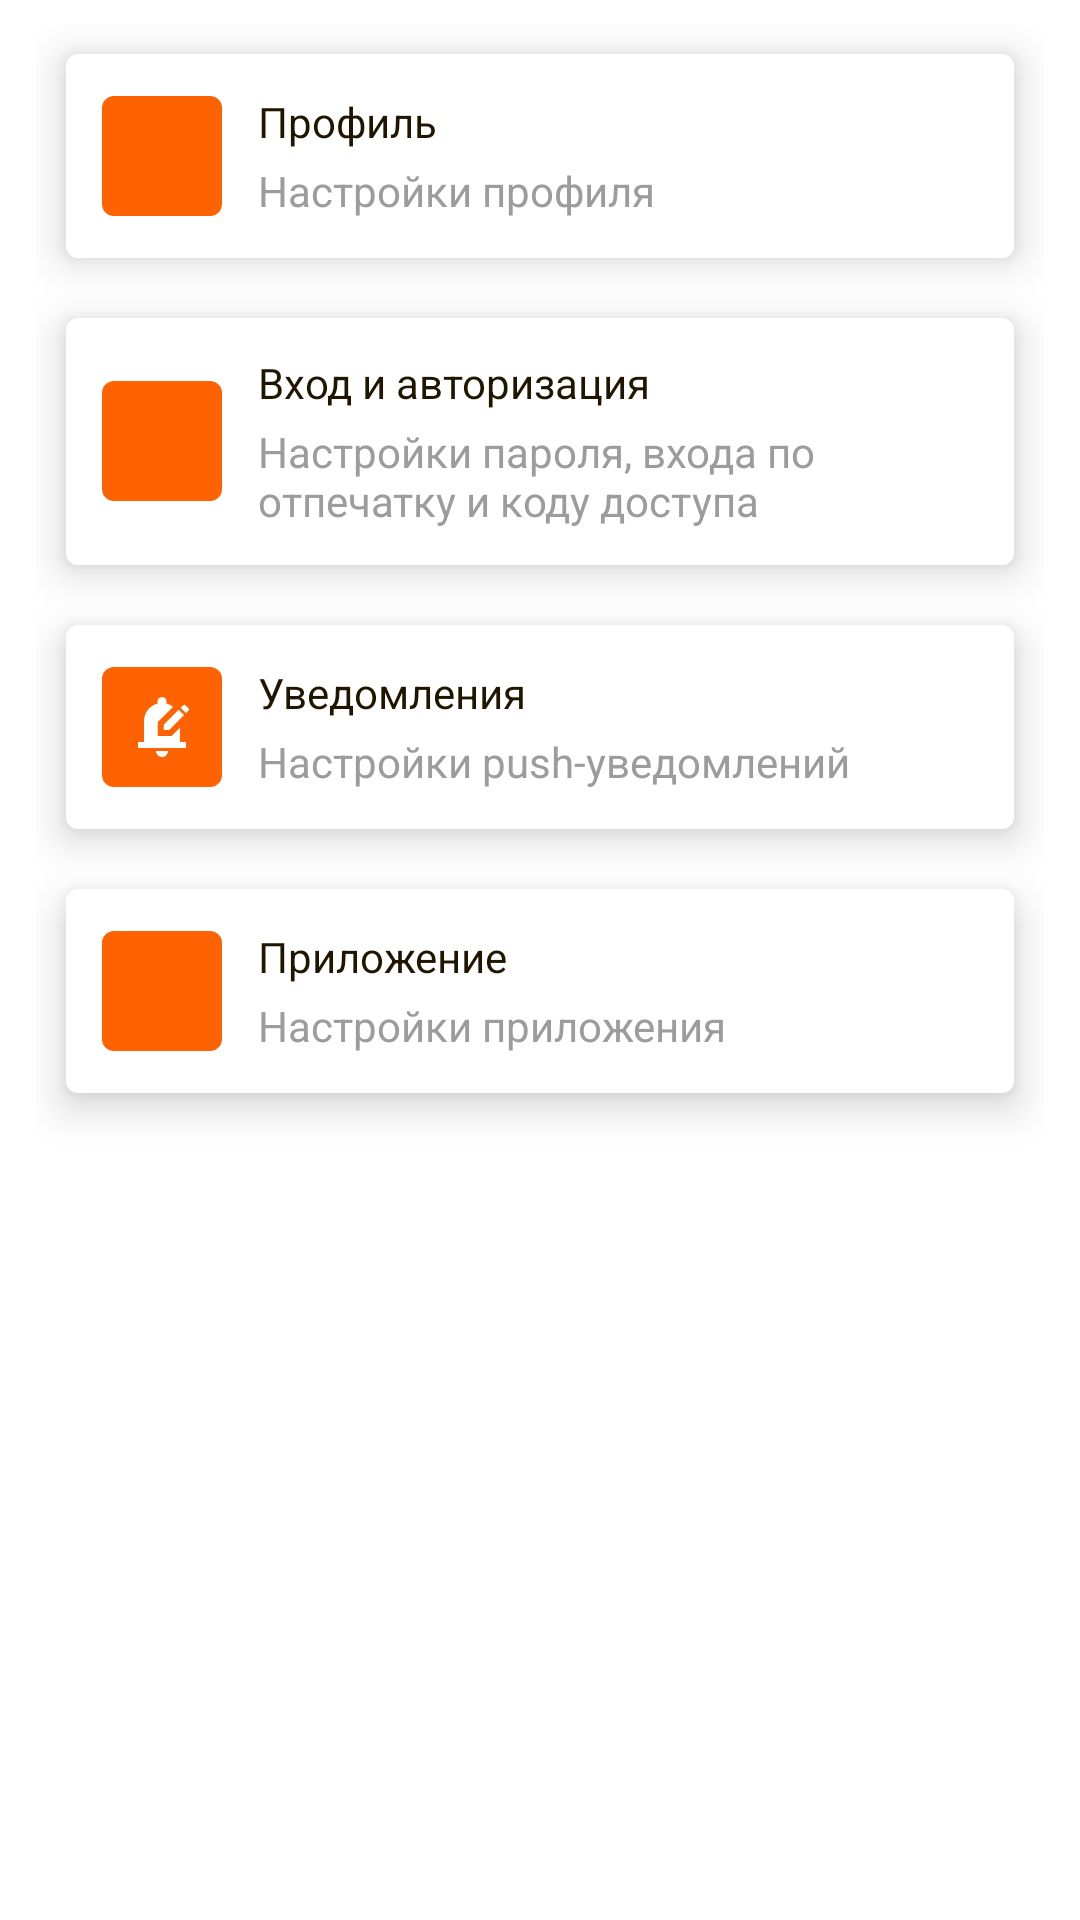

Icons on this 1080x1920 Android screen, each with the point to tap as (x=x, y=y):
settings notification: (x=162, y=727)
